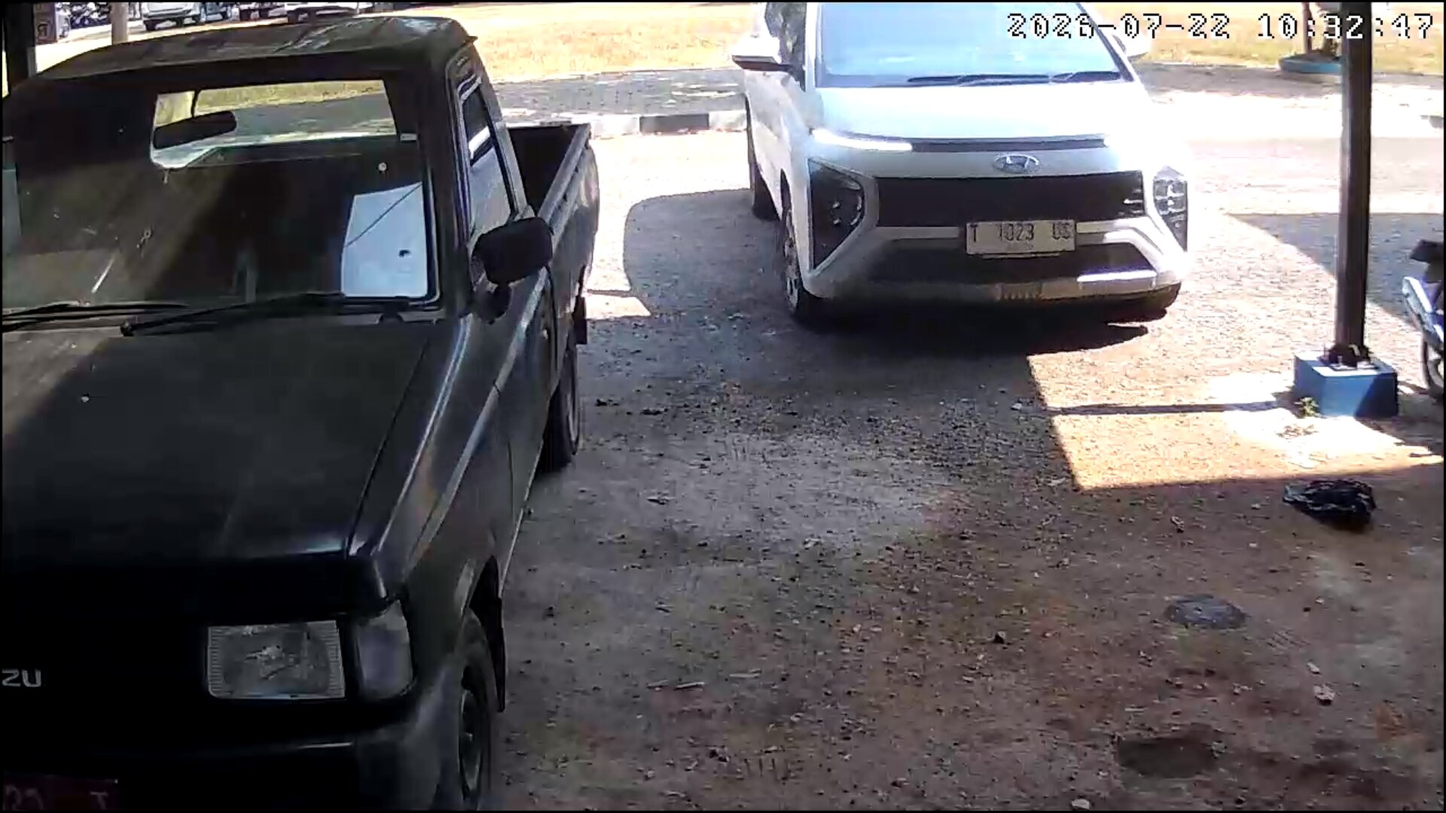plat nomor: (966, 220, 1076, 257)
